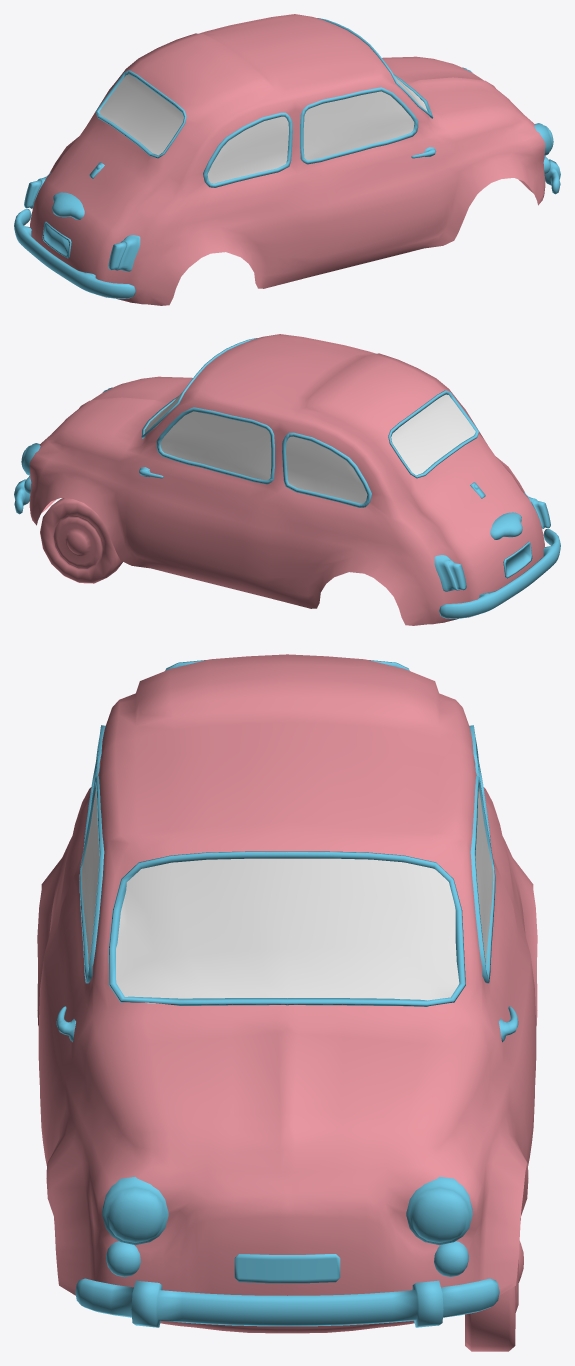
The model's file is MyCar.fbx.
3 views of the same model, one above another, from view 1: azimuth 30°, elevation 25°; view 2: azimuth 150°, elevation 25°; view 3: azimuth 270°, elevation 25° (orthographic). The views are drawn at different scales.
Visible parts, largest first — view 1: Body, Windows; view 2: Body, Windows, Wheel; view 3: Body, Windows, Wheel.
Boxes of the visible parts, x1=… form: Body: x1=14, y1=14, x2=560, y2=305; Windows: x1=99, y1=74, x2=427, y2=183; Body: x1=14, y1=334, x2=560, y2=625; Windows: x1=144, y1=390, x2=475, y2=503; Wheel: x1=40, y1=498, x2=122, y2=583; Body: x1=37, y1=654, x2=537, y2=1333; Windows: x1=81, y1=788, x2=493, y2=1003; Wheel: x1=465, y1=1241, x2=523, y2=1351.
Size of the model in its own units: 299 by 131 by 134.
